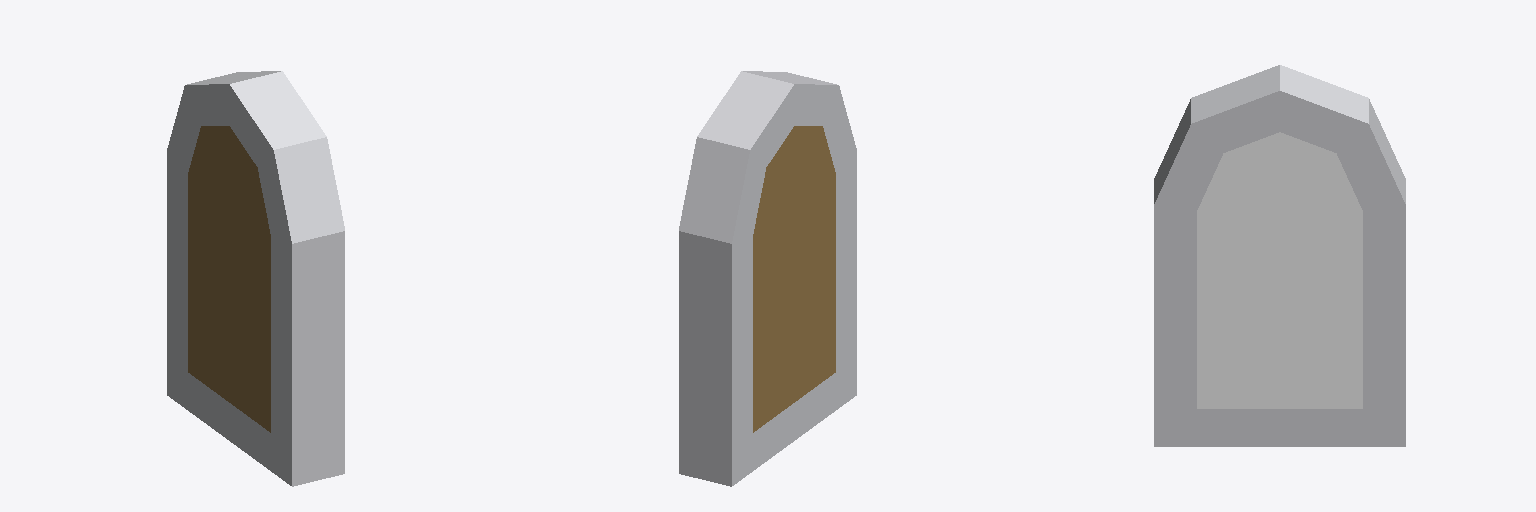
Rendered from Iron_Door_01.obj.
3 renders of one model, left to right at view 1: azimuth 30°, elevation 25°; view 2: azimuth 150°, elevation 25°; view 3: azimuth 270°, elevation 25°, orthographic.
Visible parts, largest first — view 1: Mesh1 Iron_Door Model; view 2: Mesh1 Iron_Door Model; view 3: Mesh1 Iron_Door Model.
Boxes of the visible parts, <box> form: Mesh1 Iron_Door Model: <box>167,71,344,486</box>; Mesh1 Iron_Door Model: <box>679,71,856,486</box>; Mesh1 Iron_Door Model: <box>1154,65,1405,446</box>.
Bounding box in the file's own units: 0.3 × 1.92 × 1.22.